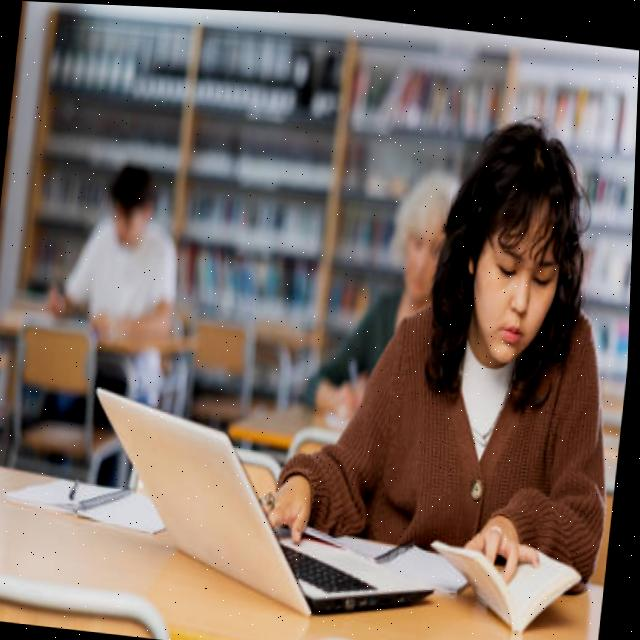studying-person: (242, 77, 638, 639)
